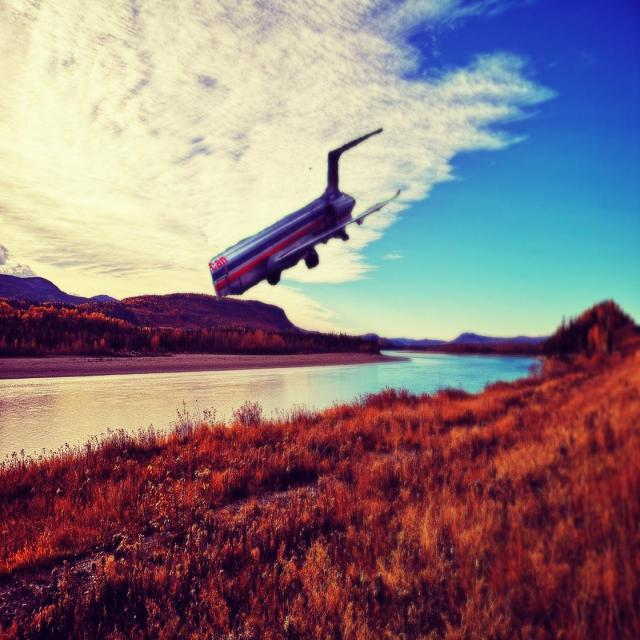airplane: (208, 127, 400, 300)
